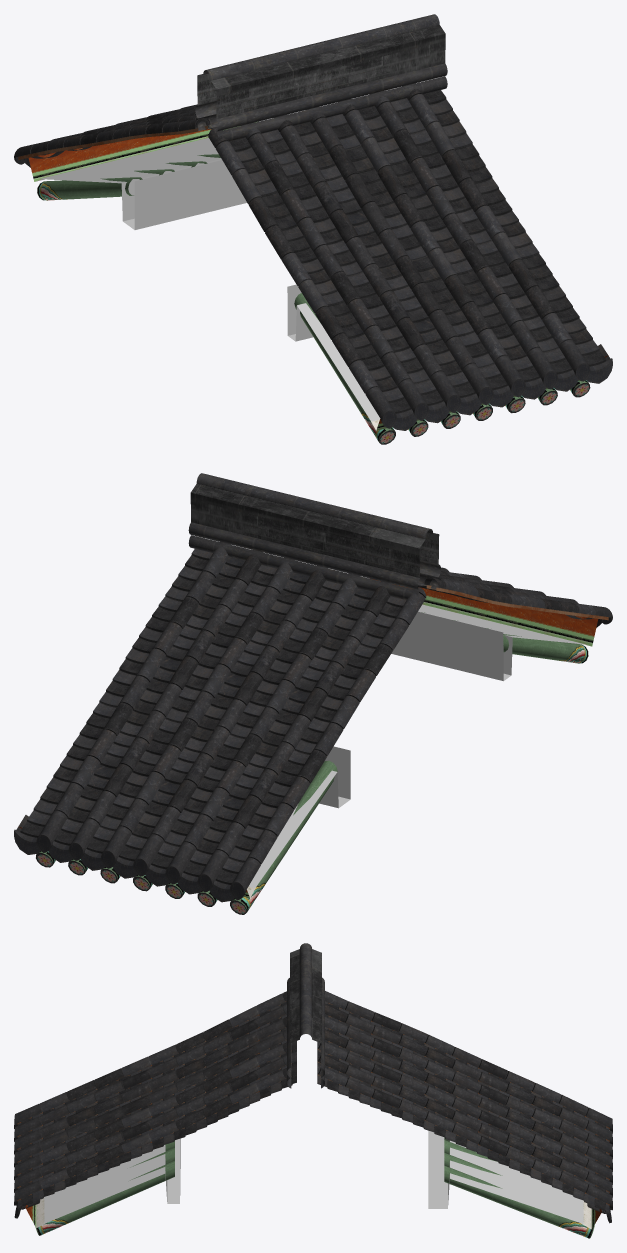
The model's file is SM_Giwa01B_a5.fbx.
3 views of the same model, one above another, from view 1: azimuth 30°, elevation 25°; view 2: azimuth 150°, elevation 25°; view 3: azimuth 270°, elevation 25° (orthographic). The views are drawn at different scales.
Parts seen in each view (by area): view 1: SM_Giwa01B_a5; view 2: SM_Giwa01B_a5; view 3: SM_Giwa01B_a5.
Part boxes in pixels (box(x1,y1,x2,y2)): SM_Giwa01B_a5: box(14, 14, 612, 444); SM_Giwa01B_a5: box(14, 473, 612, 914); SM_Giwa01B_a5: box(14, 943, 612, 1238).
Bounding box in the file's own units: 222 × 608 × 238.
